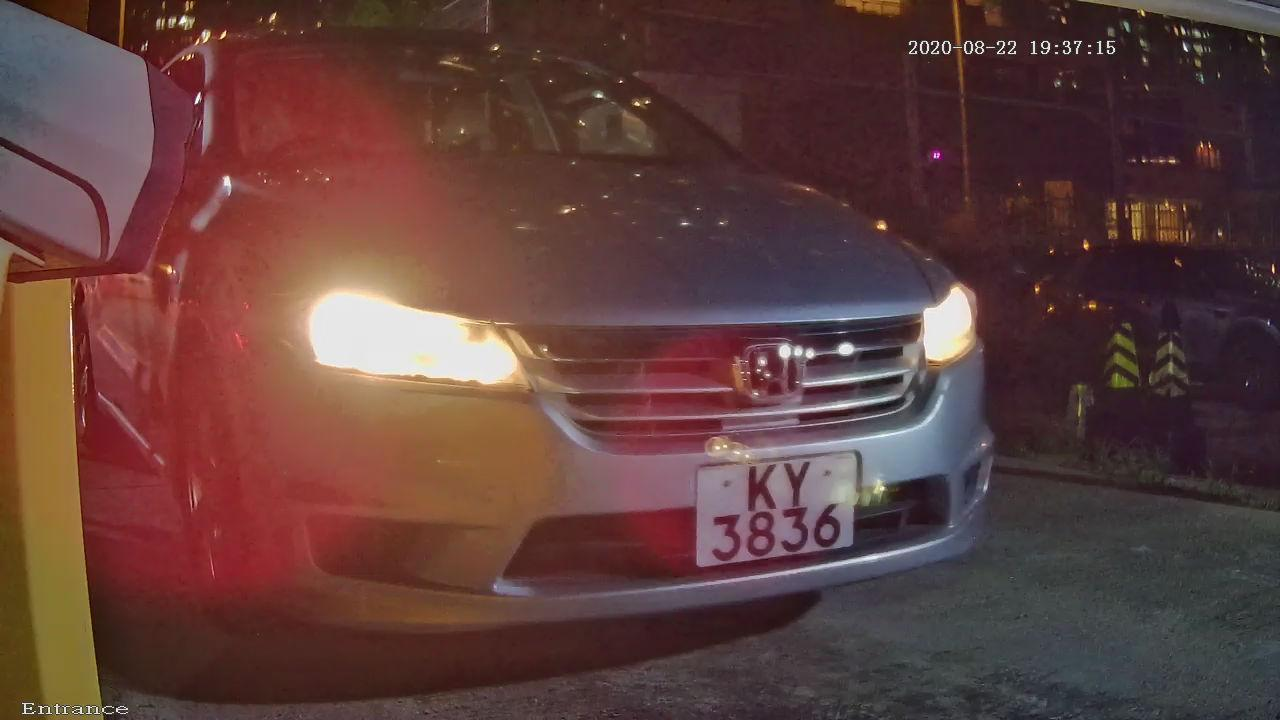Car: (23, 20, 1126, 692)
License Plate: (686, 434, 886, 579)
